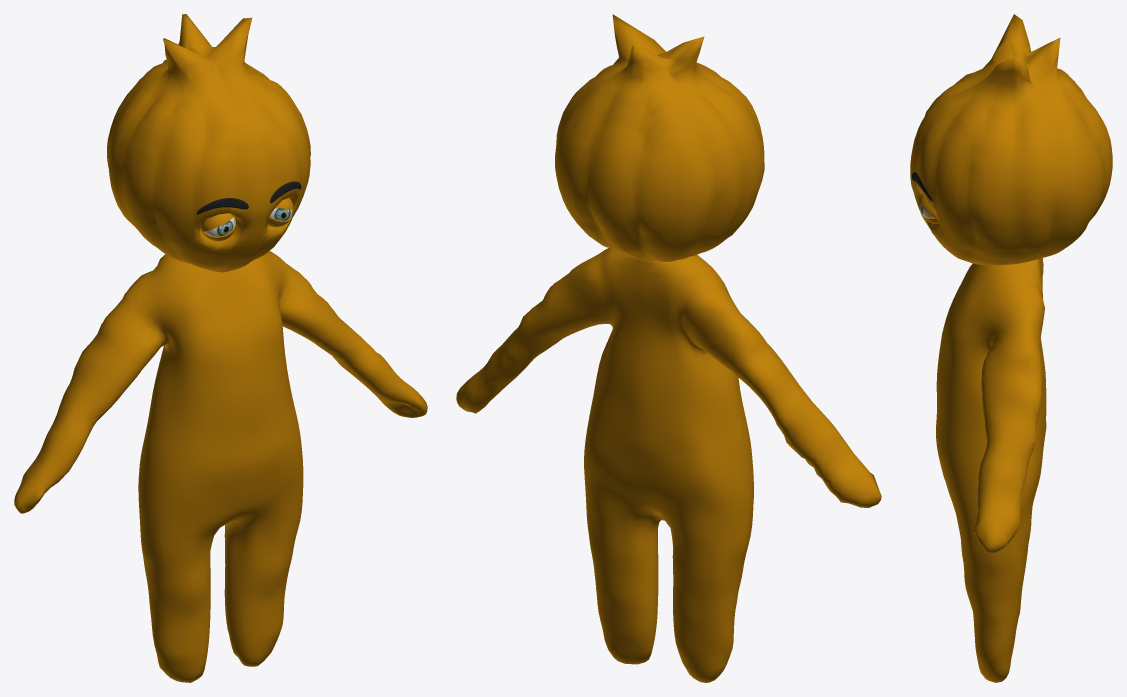
The model's file is Onion Top.fbx.
The picture shows the model from 3 angles, left to right: view 1: azimuth 30°, elevation 25°; view 2: azimuth 150°, elevation 25°; view 3: azimuth 270°, elevation 25°; orthographic projection. The views are drawn at different scales.
Visible parts, largest first — view 1: Body, Head, Eyelid, Plane; view 2: Body, Head; view 3: Head, Body.
Part boxes in pixels (<box>): Body: <box>14,251,427,682</box>; Head: <box>107,14,310,272</box>; Eyelid: <box>200,197,293,241</box>; Plane: <box>196,181,301,214</box>; Body: <box>456,248,881,682</box>; Head: <box>555,14,764,261</box>; Head: <box>910,14,1112,265</box>; Body: <box>936,258,1046,682</box>.
Size of the model in its own units: 459 by 680 by 198.
3 materials, 1 textured.
